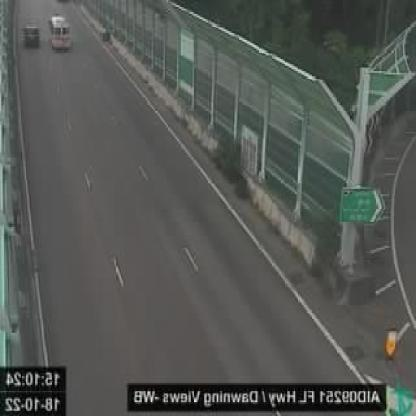Bus: (49, 14, 71, 50)
Car: (22, 24, 40, 49)
